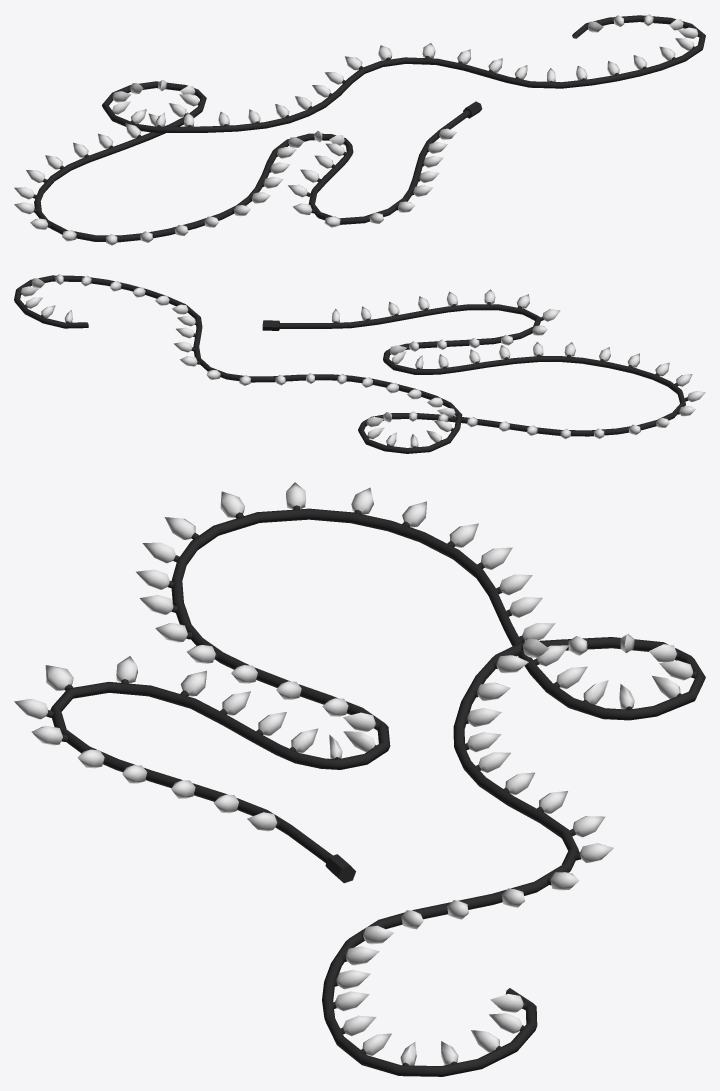
The model's file is ChristmasChainLight_02.fbx.
3 renders of one model, top to bottom at view 1: azimuth 30°, elevation 25°; view 2: azimuth 150°, elevation 25°; view 3: azimuth 270°, elevation 25°, orthographic. The views are drawn at different scales.
Visible parts, largest first — view 1: ChristmasChainLight_02; view 2: ChristmasChainLight_02; view 3: ChristmasChainLight_02.
Part boxes in pixels (x1,y1,x2,y2): ChristmasChainLight_02: (14,14,705,245); ChristmasChainLight_02: (14,274,705,453); ChristmasChainLight_02: (14,482,705,1076).
Size of the model in its own units: 2.4 by 0.063 by 1.22.
